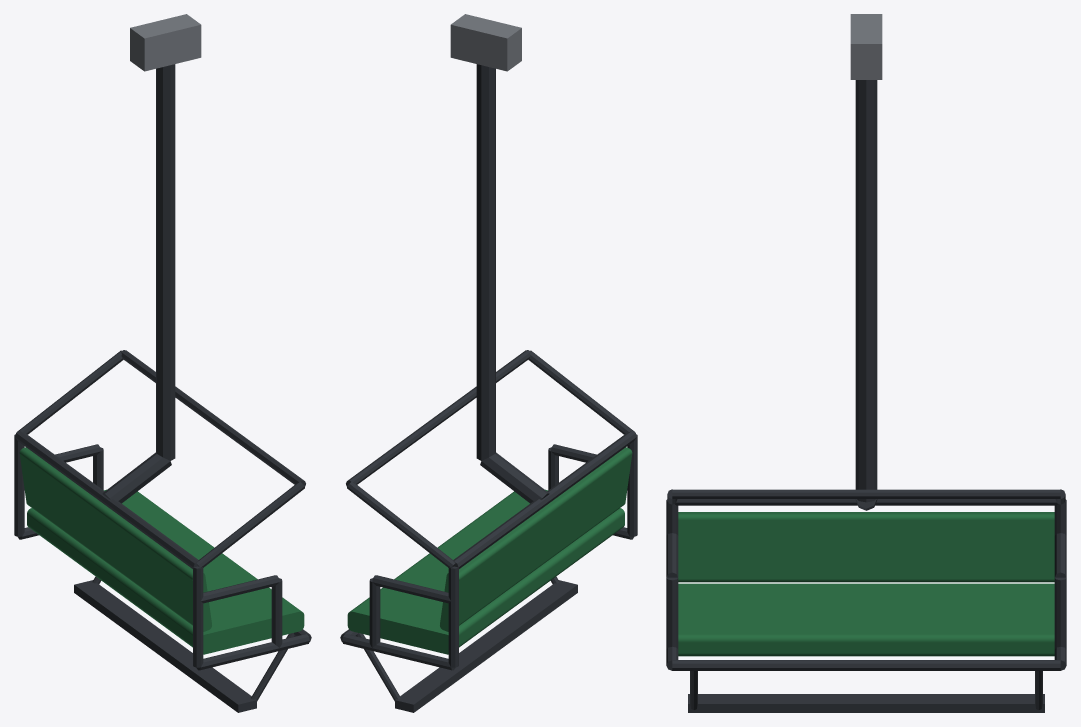
The model's file is chair_triple.obj.
3 renders of one model, left to right at view 1: azimuth 30°, elevation 25°; view 2: azimuth 150°, elevation 25°; view 3: azimuth 270°, elevation 25°, orthographic. The views are drawn at different scales.
Bounding box in the file's own units: 0.75 × 3.78 × 2.02.
